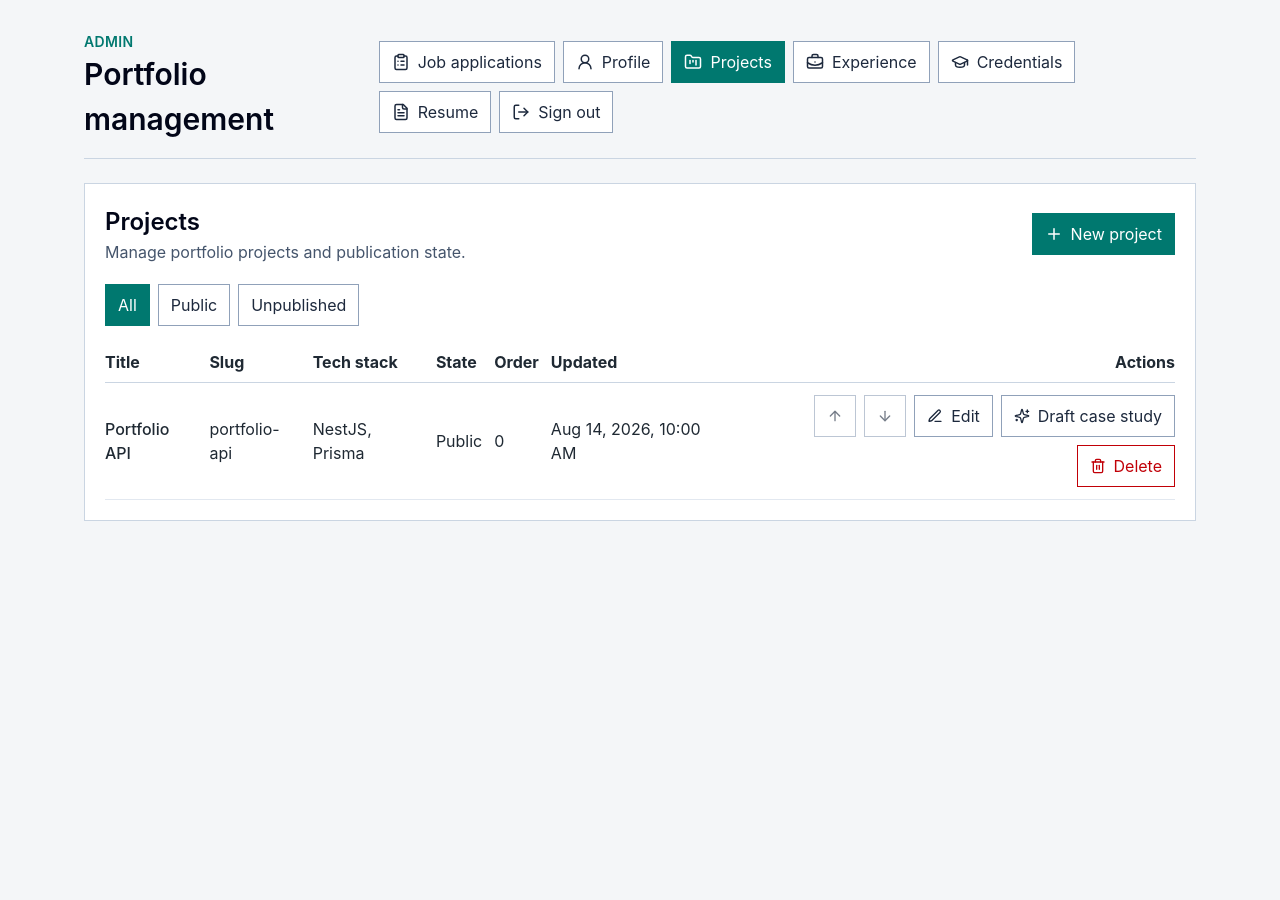
Test case: projects admin list › disables duplicate delete submissions while deletion is pending
Click the button with aria-label "Delete Portfolio API".
click(1126, 466)  # box [1076, 445, 1175, 487]
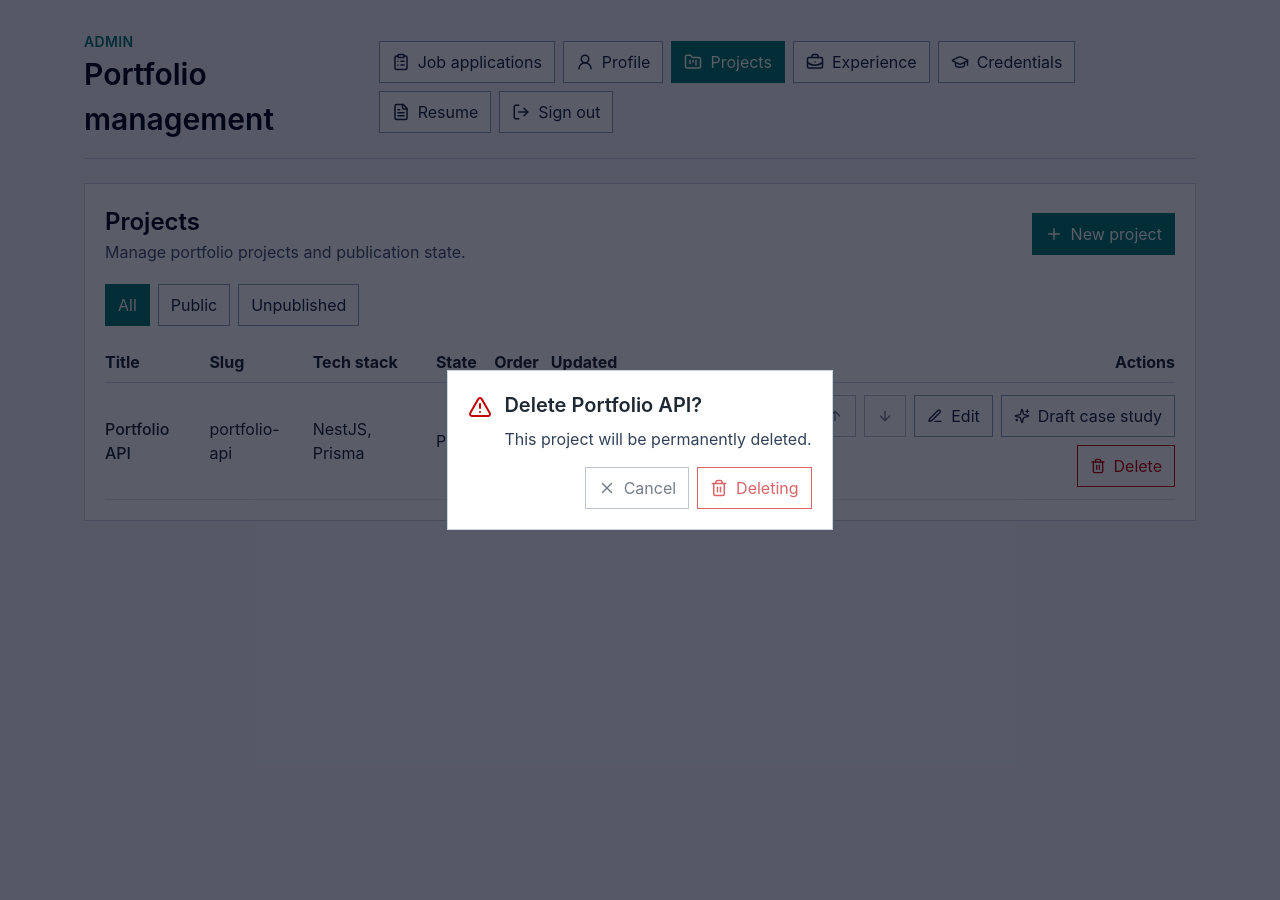
Result: the button "Cancel" is disabled at [585, 467, 689, 509]
Result: the button "Deleting" is disabled at [697, 467, 812, 509]
